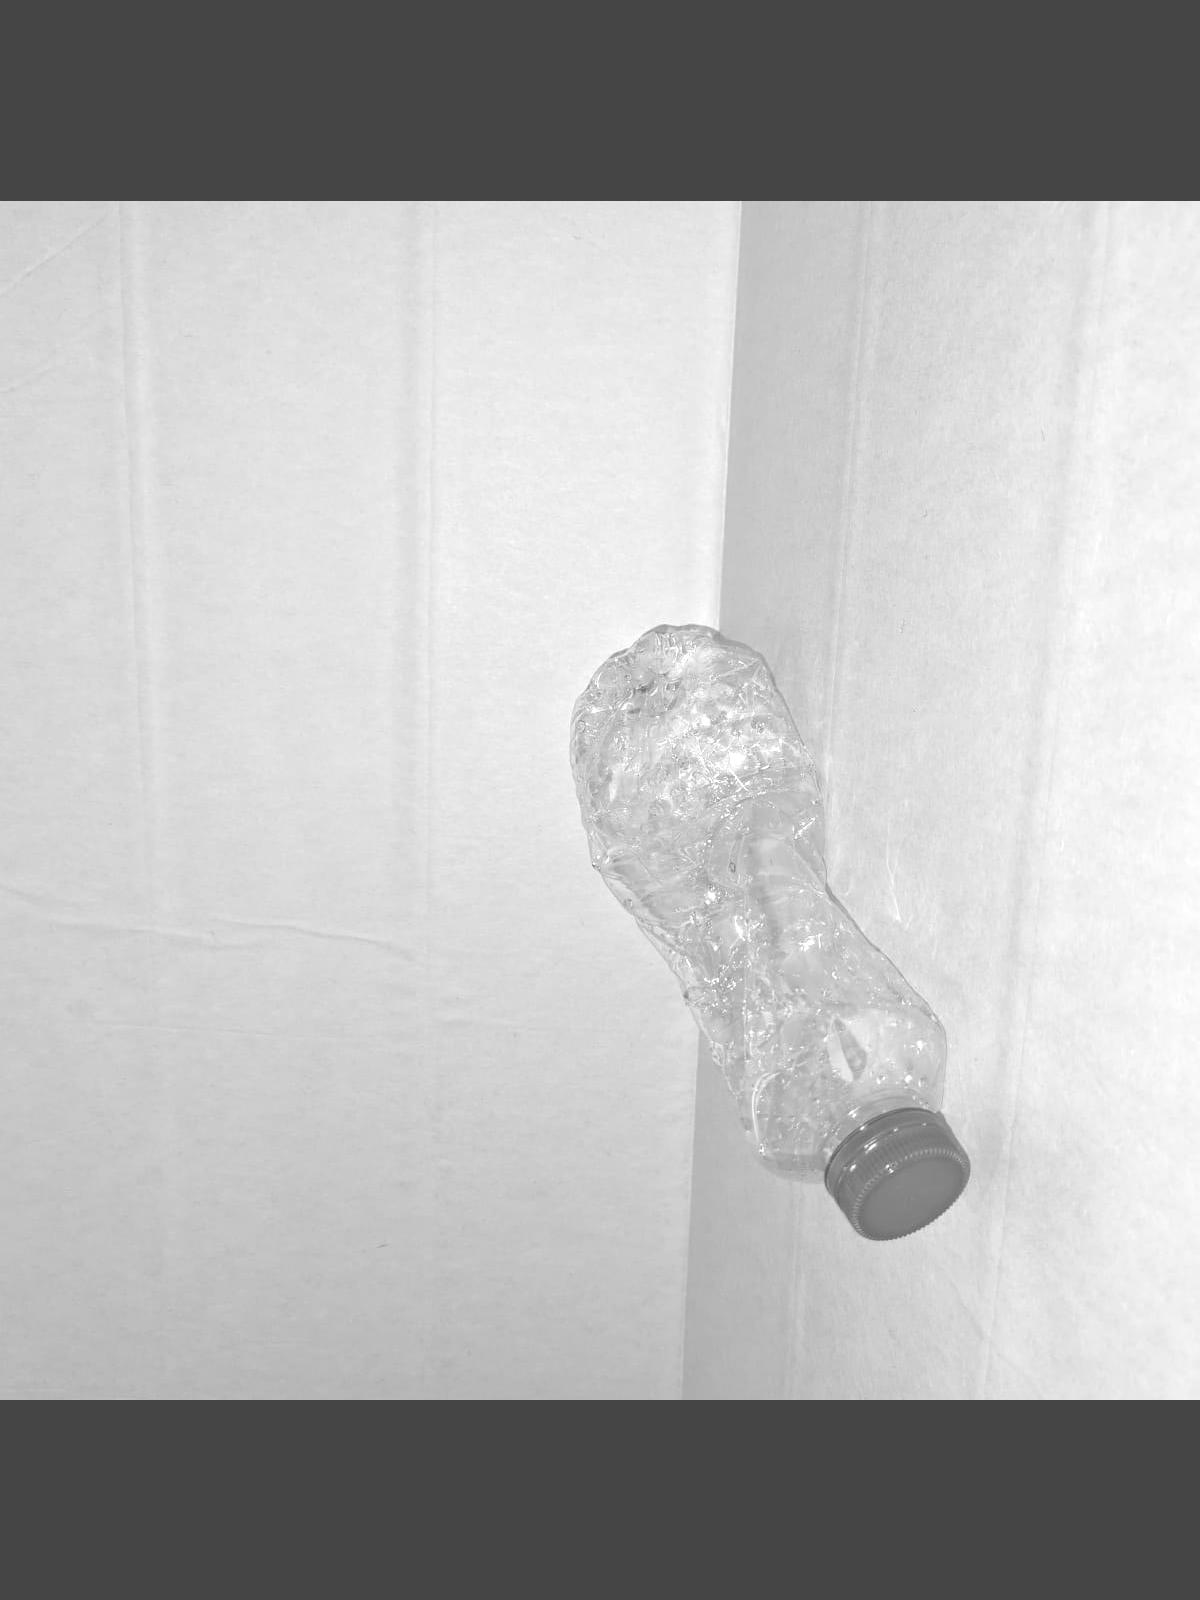bottle: (567, 624, 961, 1265)
